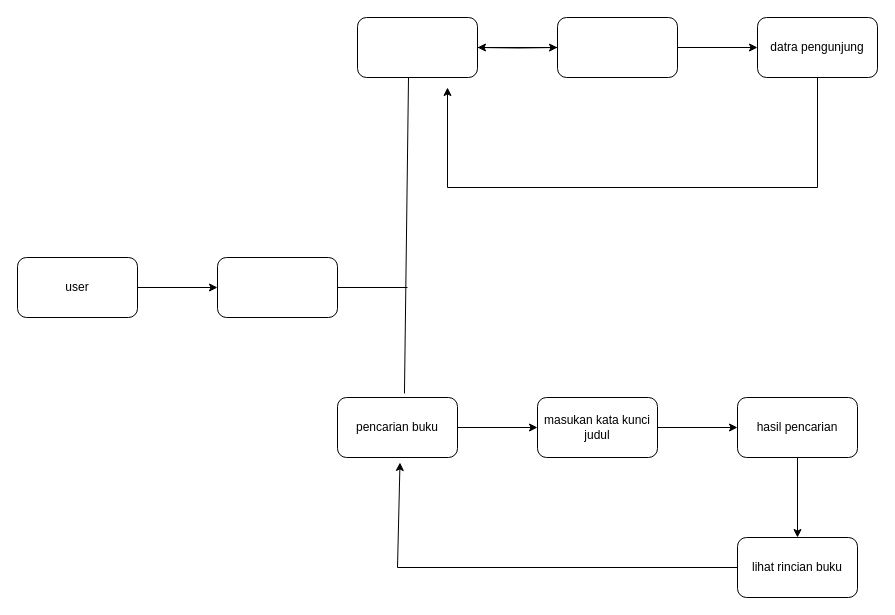
This 895x615 diagram has some shape labels left out. Each missing label, with the box of its shape:
isi from pengunjung: (356, 16, 478, 78)
kirim: (556, 16, 678, 78)
Mengunjung perpus: (216, 256, 338, 318)
